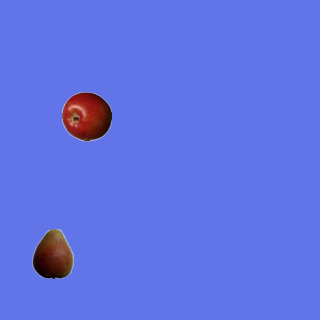Apple Braeburn: (61, 91, 111, 141)
Pear Forelle: (27, 228, 77, 278)
